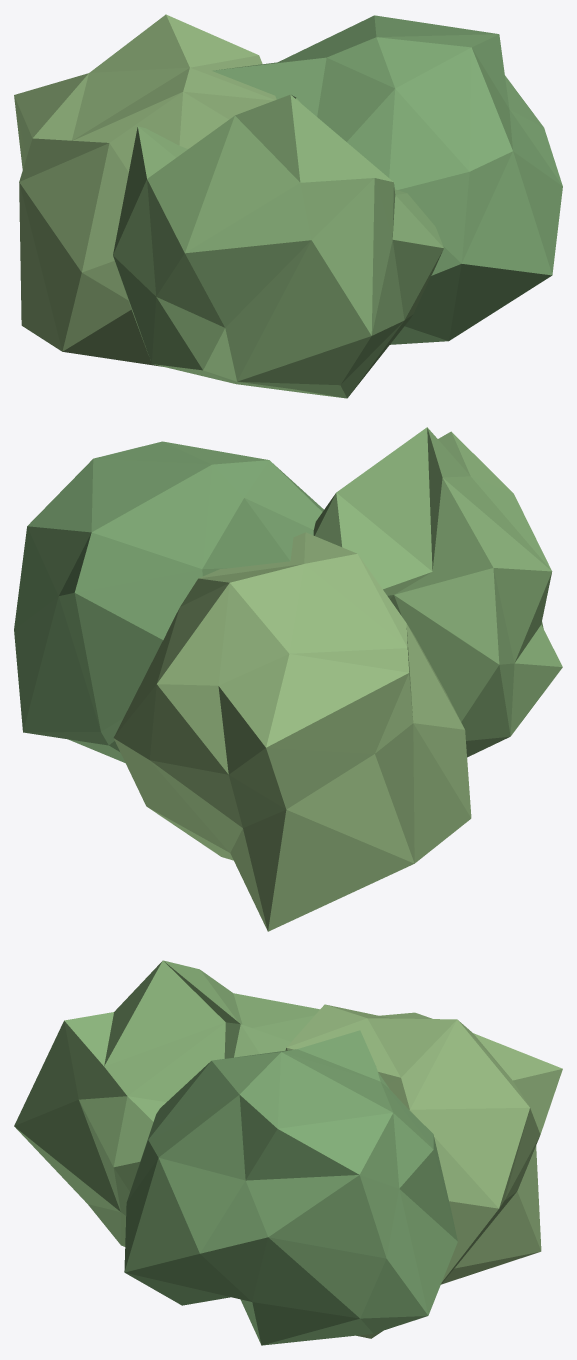
The model's file is nature_bush_04.glb.
The picture shows the model from 3 angles, top to bottom: view 1: azimuth 30°, elevation 25°; view 2: azimuth 150°, elevation 25°; view 3: azimuth 270°, elevation 25°; orthographic projection. The views are drawn at different scales.
Parts seen in each view (by area): view 1: geometry_0; view 2: geometry_0; view 3: geometry_0.
Boxes of the visible parts, box(x1,y1,x2,y2) form: geometry_0: box(14, 14, 562, 398); geometry_0: box(14, 427, 562, 931); geometry_0: box(14, 960, 562, 1345).
Bounding box in the file's own units: 1.84 × 1.45 × 2.14.
